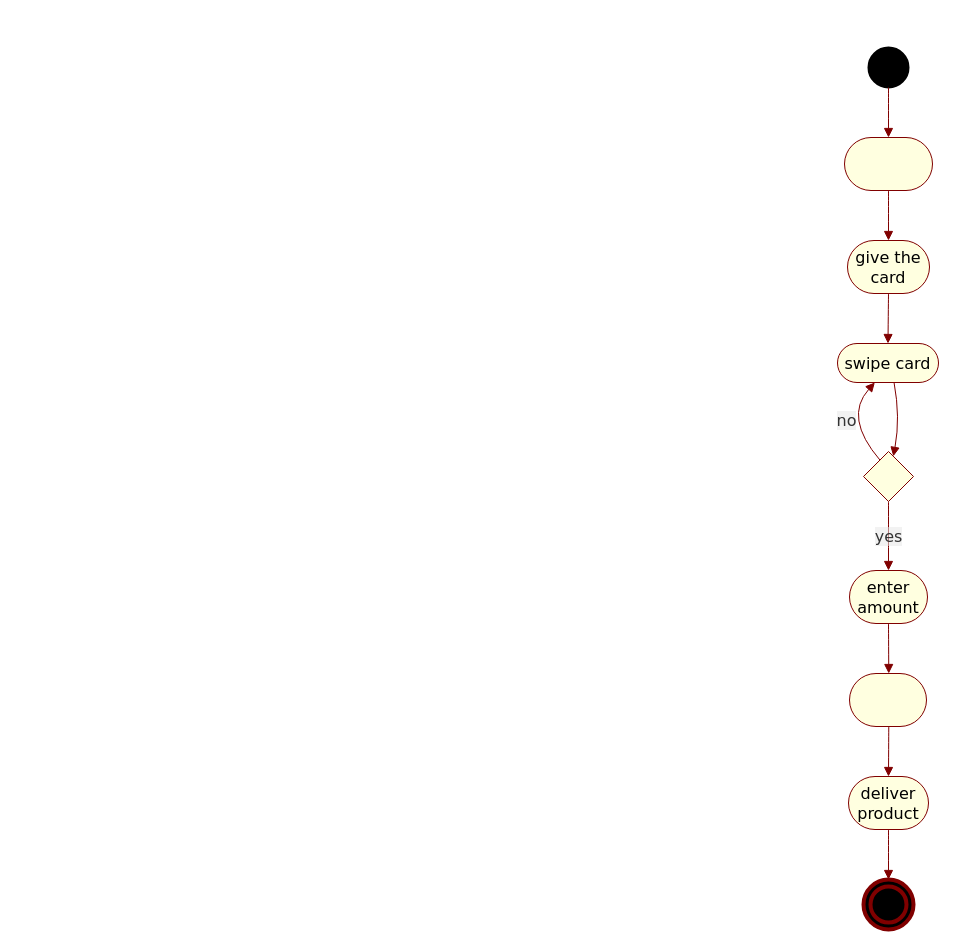
Image size: 956x948. Some labels were removed from this diagram. Each missing label, with the box of its shape:
purchase product: (844, 136, 932, 190)
recieve card: (848, 672, 926, 726)
